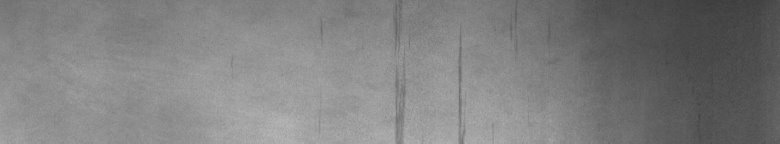ka: (392, 11, 517, 136)
